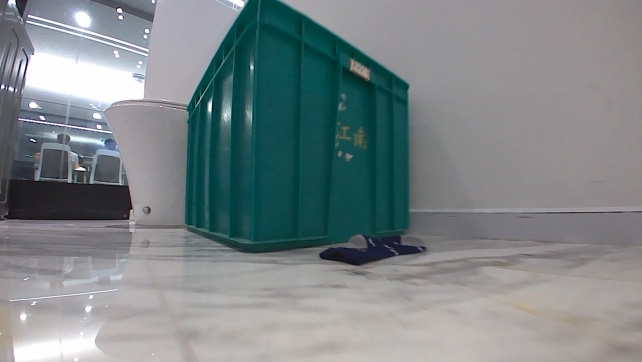socks: (315, 230, 428, 266)
toilet: (100, 95, 190, 229)
